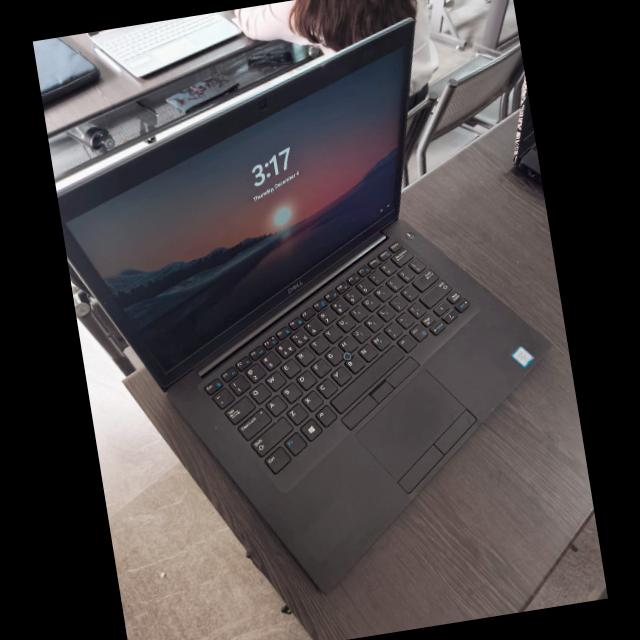laptop: (40, 1, 585, 610)
